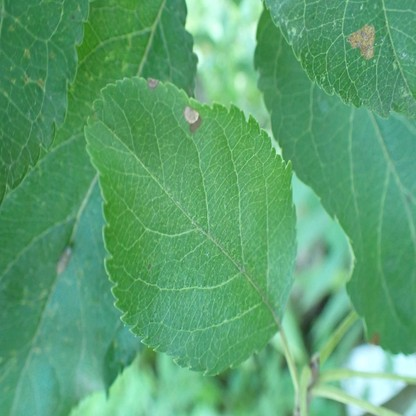frogeye_leaf_spot: (346, 24, 374, 60), (184, 107, 202, 132), (147, 78, 160, 88)
